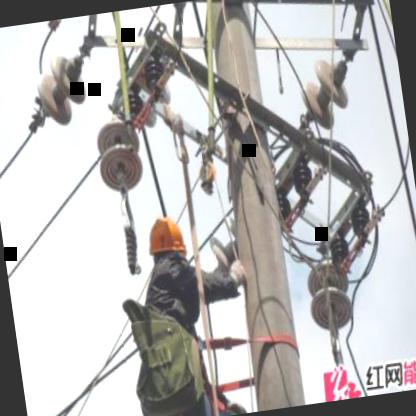helmet: (142, 208, 198, 290)
